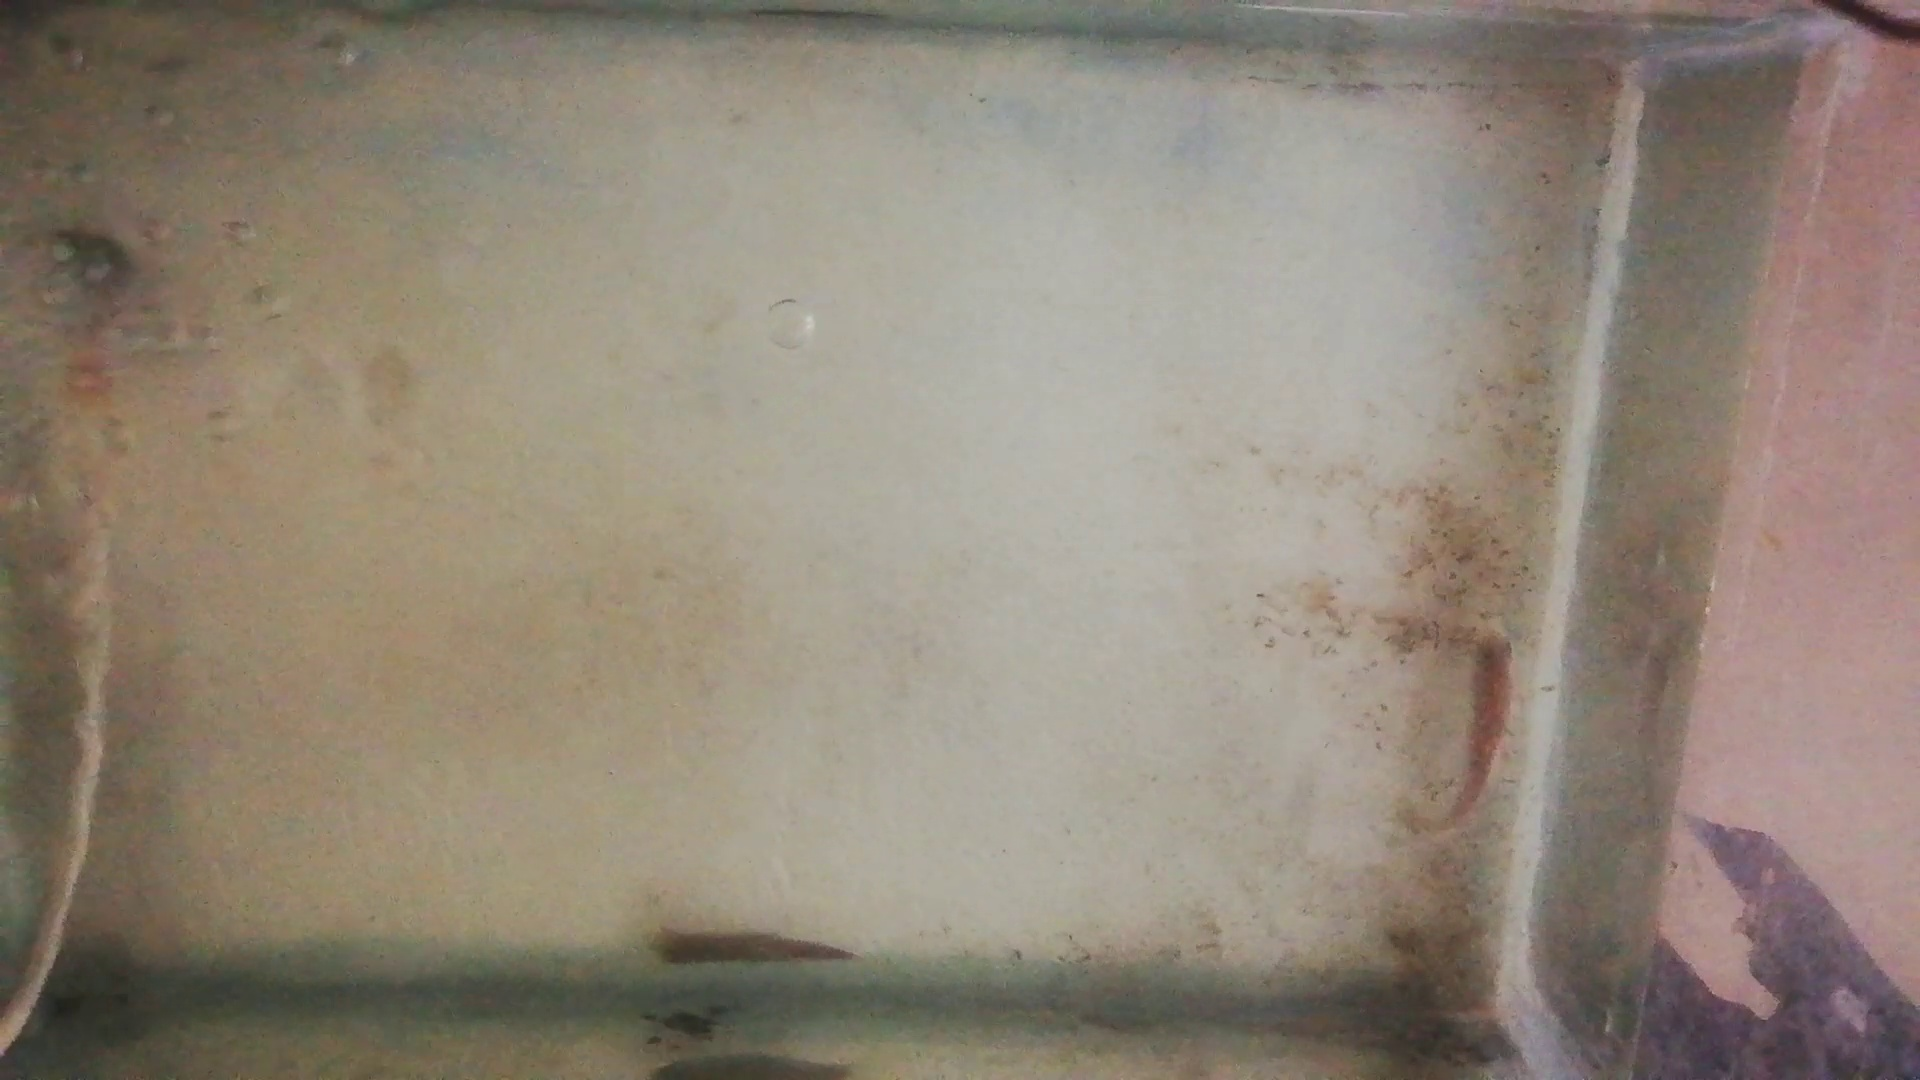fish: (1447, 621, 1514, 825), (645, 928, 855, 971)
